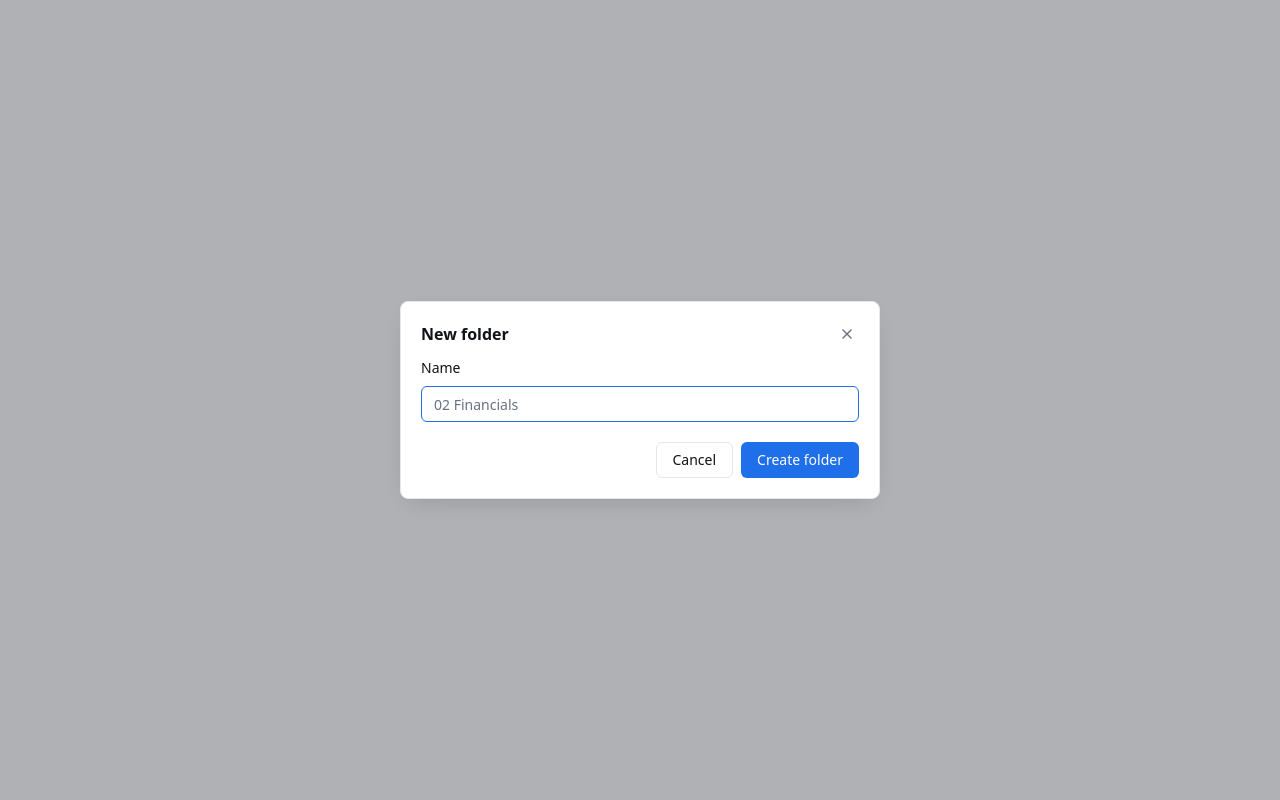
Test: CreateFolderDialog › rejects an empty name before sending anything
Click the button "Create folder".
click(800, 460)  # box [741,442,859,478]
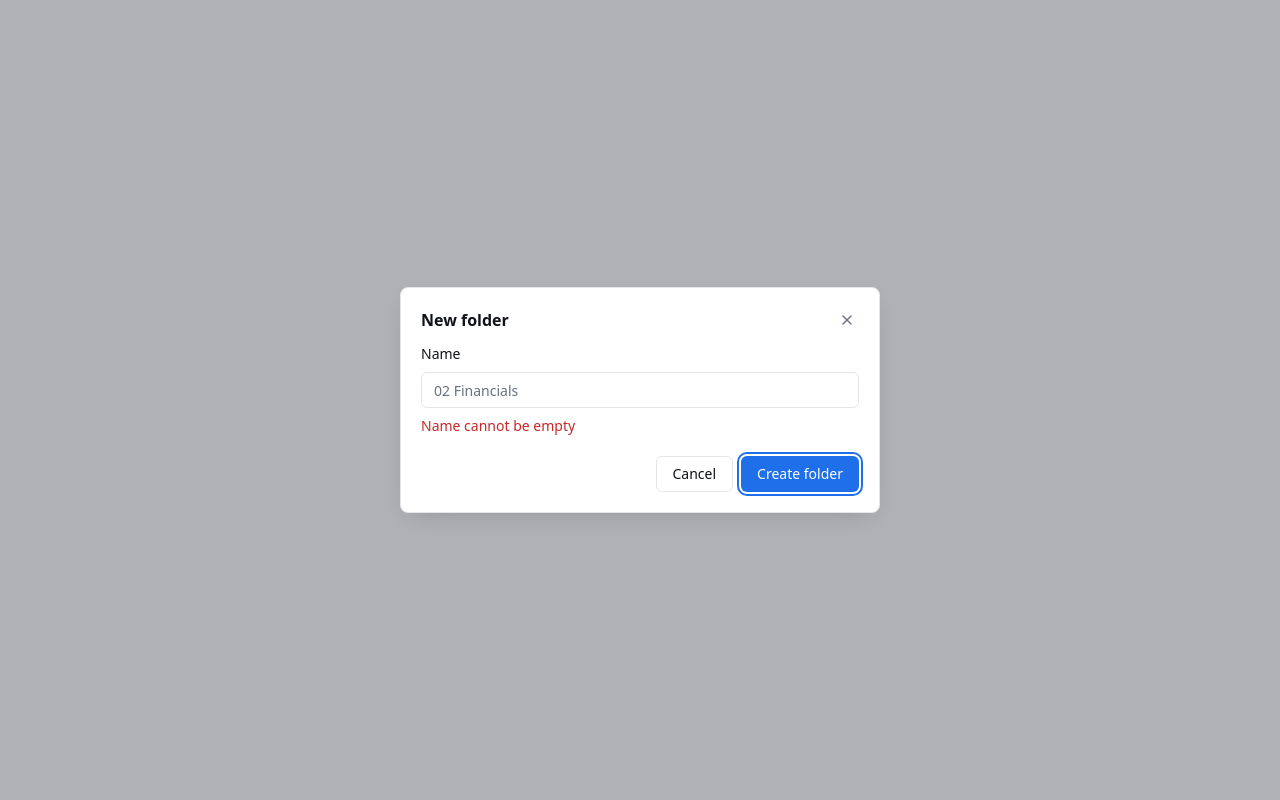
Now the message "Name cannot be empty" is shown, box [421,416,575,435]
